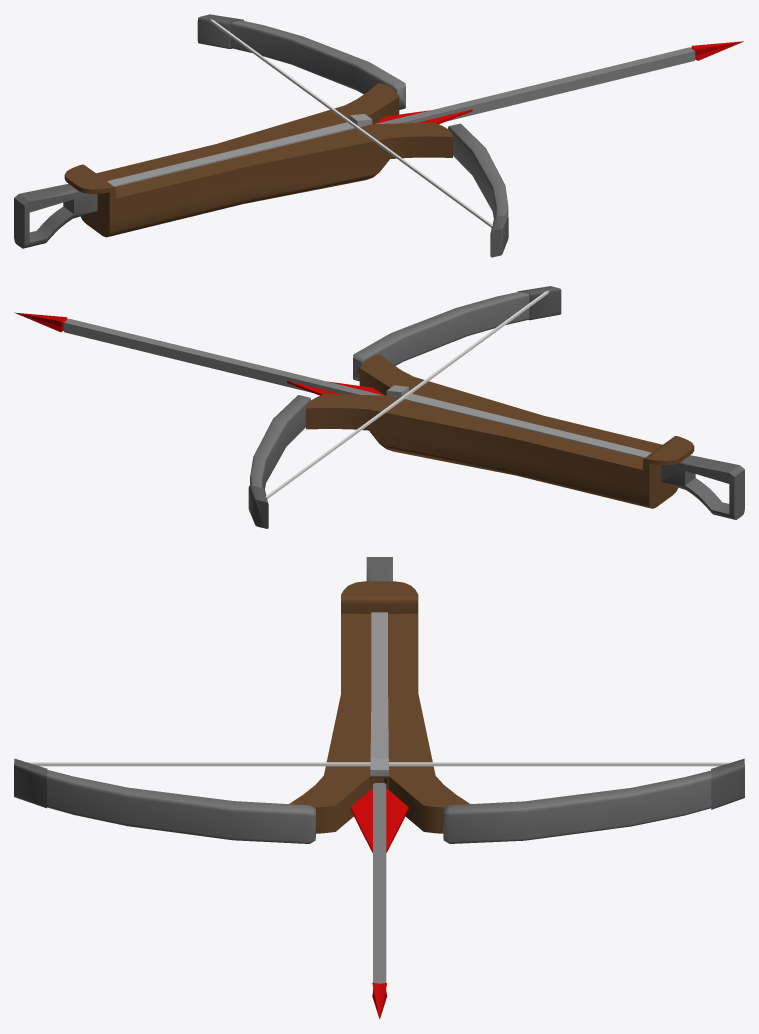
Rendered from crossbow_obstacle.fbx.
3 views of the same model, one above another, from view 1: azimuth 30°, elevation 25°; view 2: azimuth 150°, elevation 25°; view 3: azimuth 270°, elevation 25° (orthographic). The views are drawn at different scales.
Parts seen in each view (by area): view 1: crossbow_obstacle, arrowpiece_crossbow; view 2: crossbow_obstacle, arrowpiece_crossbow; view 3: crossbow_obstacle, arrowpiece_crossbow.
Part boxes in pixels (x1,y1,x2,y2): crossbow_obstacle: [14, 14, 508, 257]; arrowpiece_crossbow: [374, 41, 743, 124]; crossbow_obstacle: [248, 286, 744, 528]; arrowpiece_crossbow: [14, 312, 384, 395]; crossbow_obstacle: [14, 557, 744, 843]; arrowpiece_crossbow: [350, 783, 408, 1019].
Bounding box in the file's own units: 270 × 18.9 × 189.
